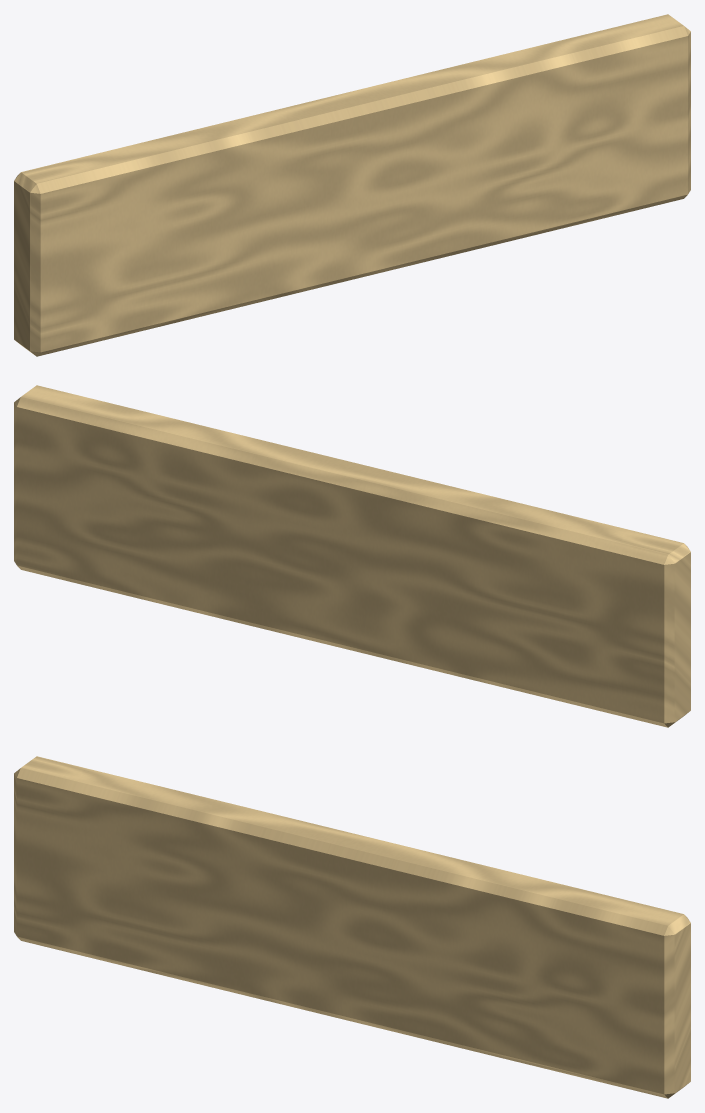
Rendered from wall.glb.
3 views of the same model, one above another, from view 1: azimuth 30°, elevation 25°; view 2: azimuth 150°, elevation 25°; view 3: azimuth 330°, elevation 25° (orthographic).
Parts seen in each view (by area): view 1: wall; view 2: wall; view 3: wall.
Boxes of the visible parts, x1,y1,x2,y2 form: wall: (14,14,690,356); wall: (14,385,690,727); wall: (14,756,690,1098).
Size of the model in its own units: 0.096 by 0.024 by 0.006.
1 material, 1 textured.
